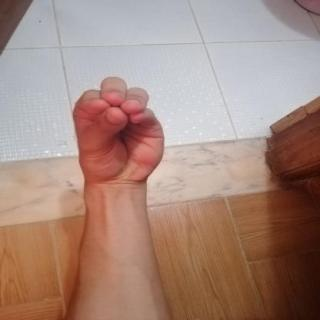HA: (60, 67, 178, 196)
